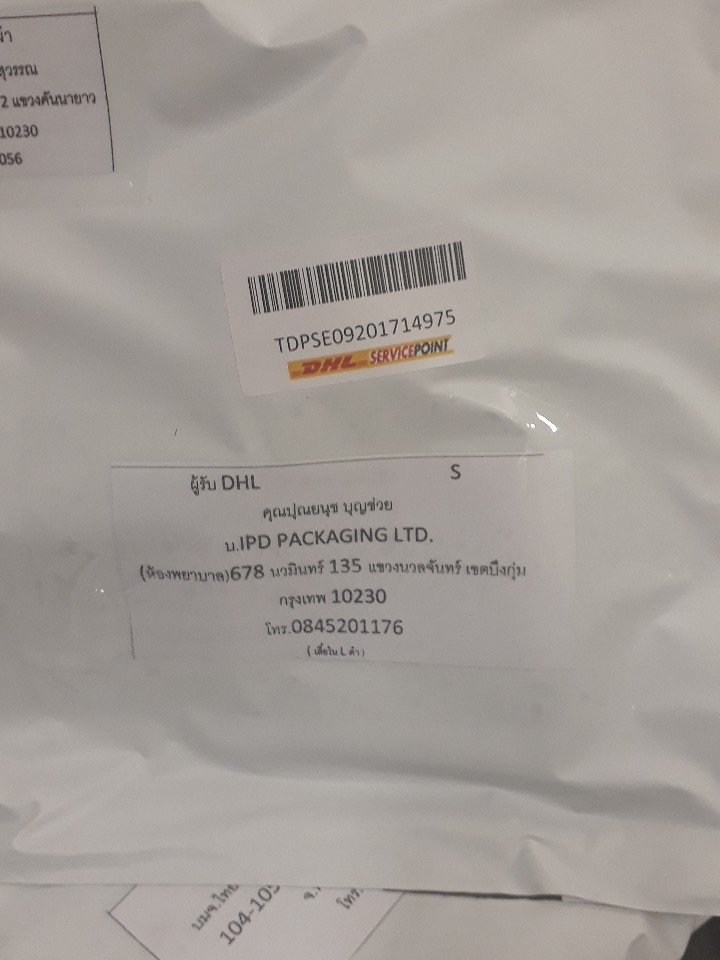ba: (215, 216, 513, 403)
txt: (137, 495, 540, 661)
